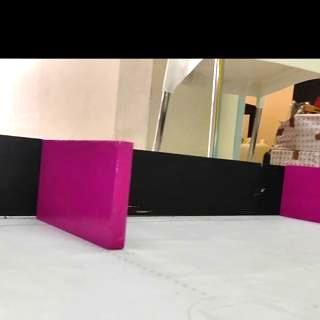xparking: (44, 141, 132, 252), (286, 165, 320, 223)
